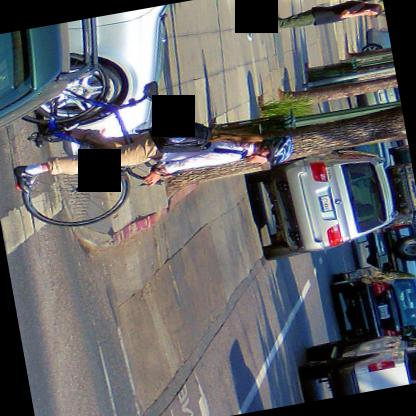backpack: (149, 113, 210, 154)
